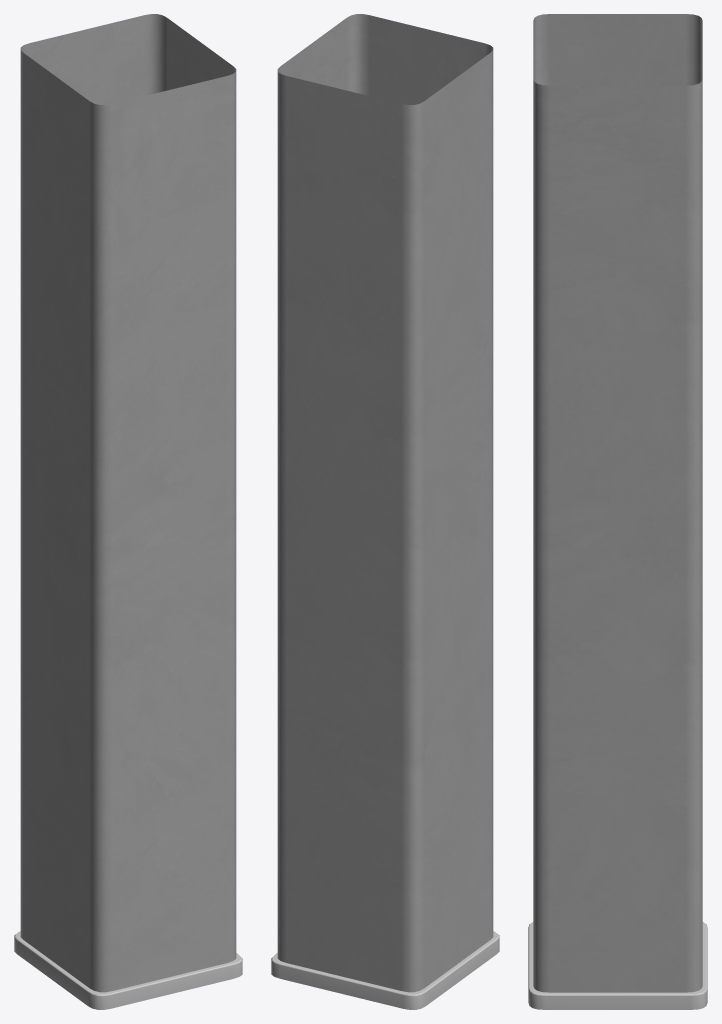
Rendered from SM_Pillar_02.fbx.
3 views of the same model, side by side, from view 1: azimuth 30°, elevation 25°; view 2: azimuth 150°, elevation 25°; view 3: azimuth 270°, elevation 25° (orthographic). The views are drawn at different scales.
Parts seen in each view (by area): view 1: SM_Pillar_02_LOD0; view 2: SM_Pillar_02_LOD0; view 3: SM_Pillar_02_LOD0.
Part boxes in pixels (x1,y1,x2,y2): SM_Pillar_02_LOD0: (14,14,242,1009); SM_Pillar_02_LOD0: (271,14,499,1009); SM_Pillar_02_LOD0: (528,14,707,1009).
Size of the model in its own units: 52.83 by 52.83 by 300.
